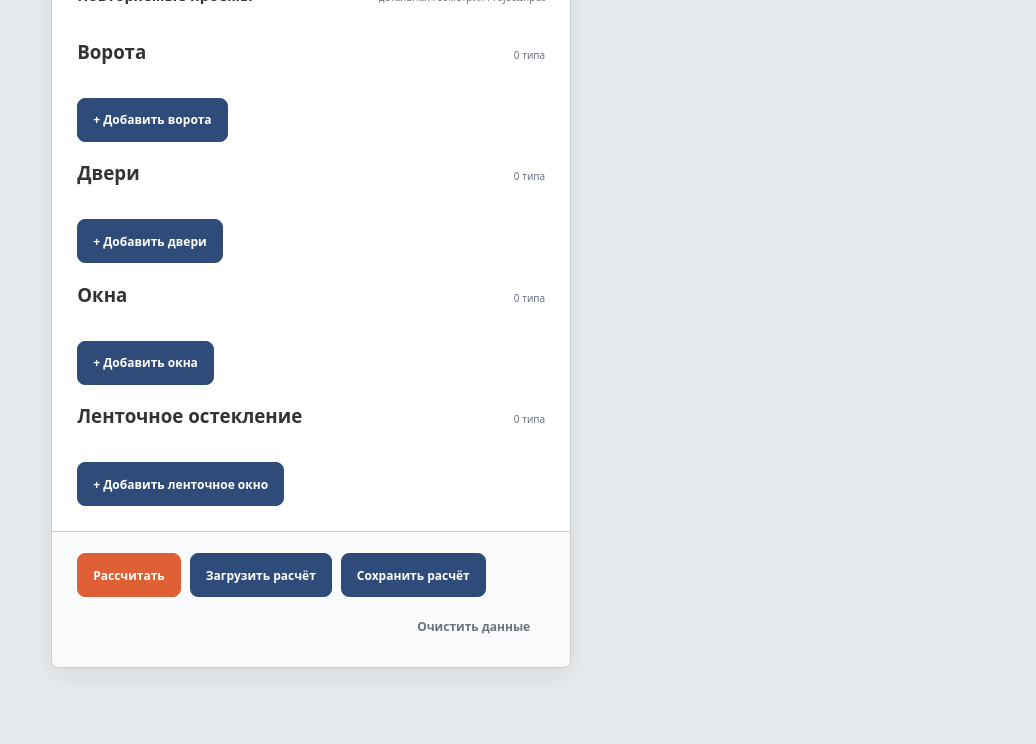
Scenario: EngineeringPreviewPage › does not show a stale girt when heterogeneous windows are not representable
This screenshot has width=1036, height=744.
(page scrolled)
Click the button "+ Добавить окна": click(146, 363) [77,341,214,385]
(page scrolled)
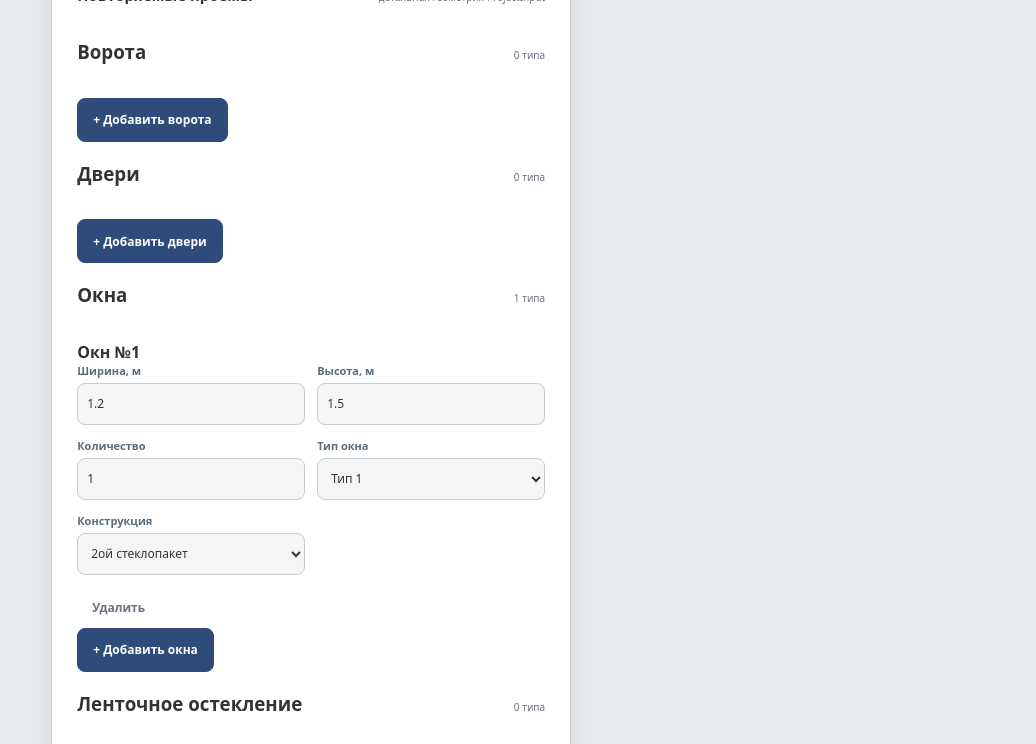
Click the button "+ Добавить окна": click(146, 650) [77,628,214,672]
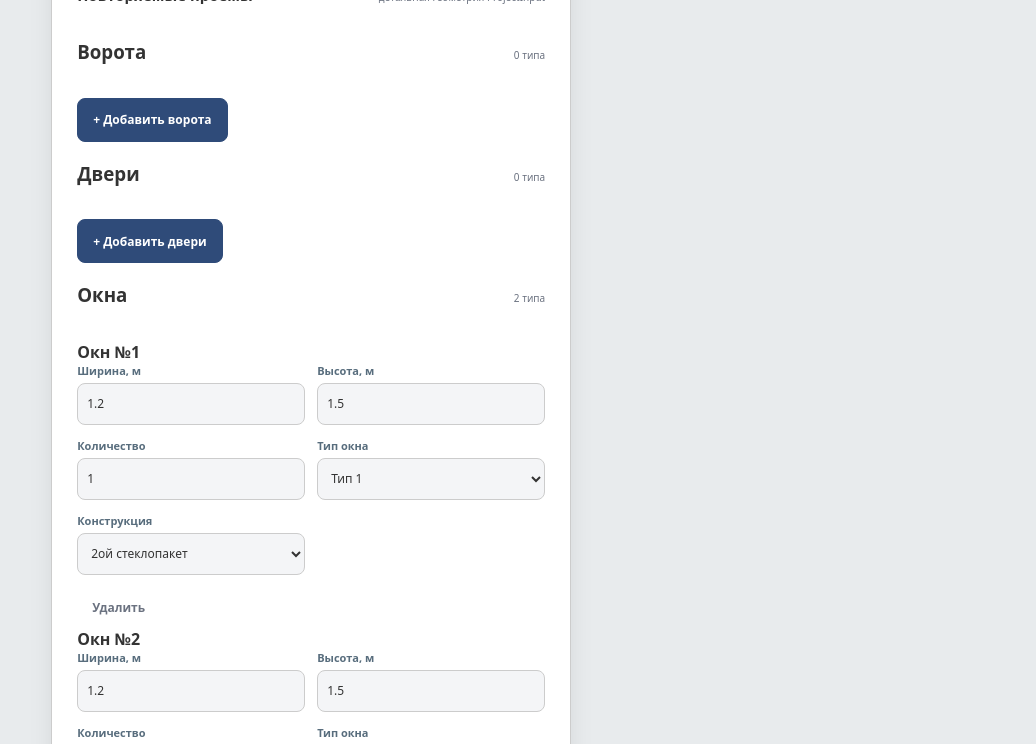
Replace the text in the 1st number field labelled "Ширина, м" with "1.5": (191, 404) [77,383,305,425]
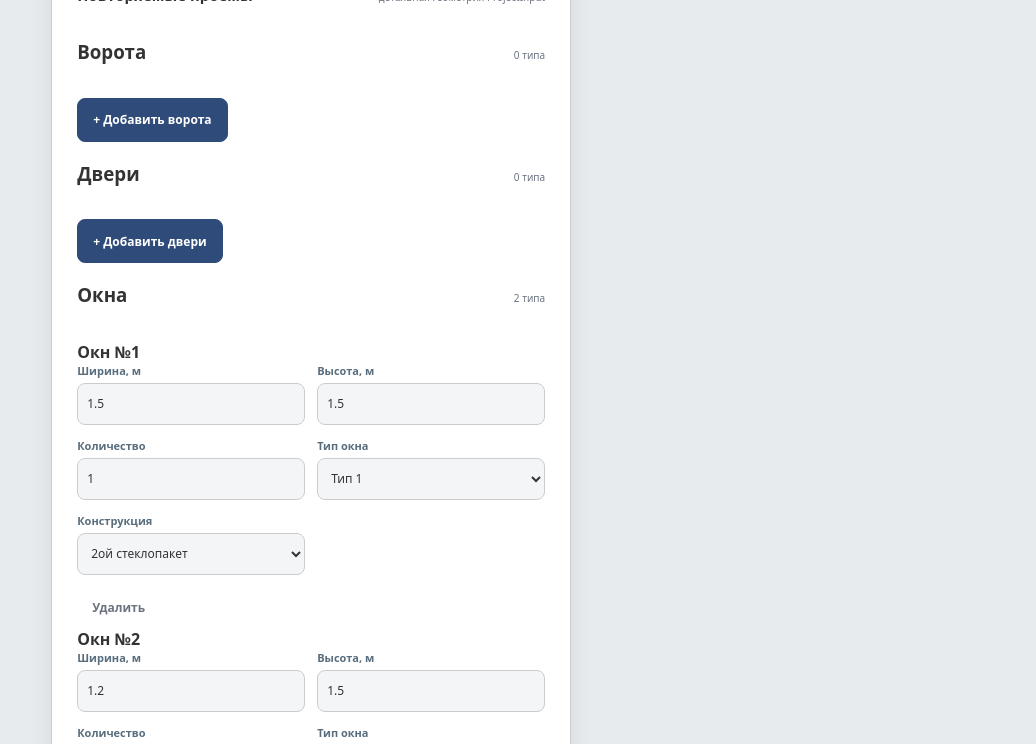
Replace the text in the 2nd number field labelled "Ширина, м" with "2": (191, 691) [77,670,305,712]
(page scrolled)
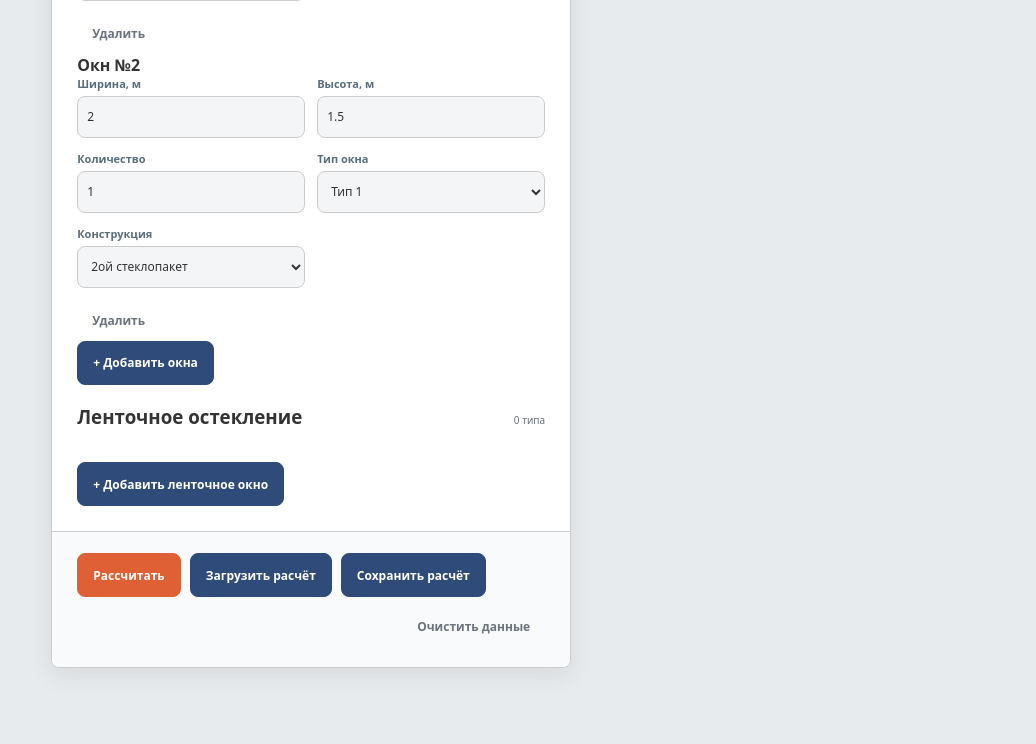
Click the button "Рассчитать": click(129, 575) [77,553,181,597]
(page scrolled)
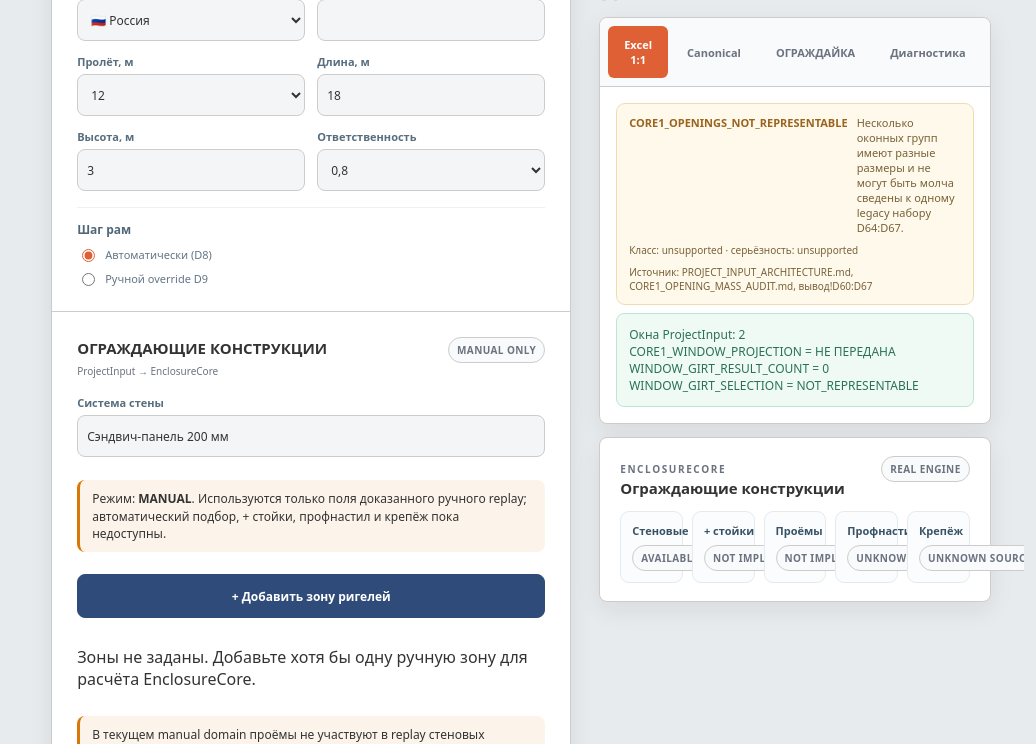
Expected: the text "CORE1_OPENINGS_NOT_REPRESENTABLE" is shown, [629,115,848,130]
Expected: the text "WINDOW_GIRT_SELECTION = NOT_REPRESENTABLE" is shown, [616,313,974,407]
